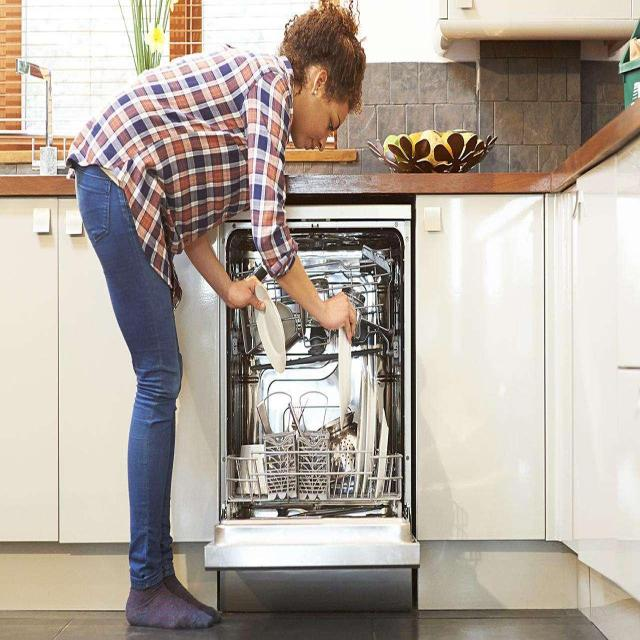dishwasher: (206, 189, 416, 613)
